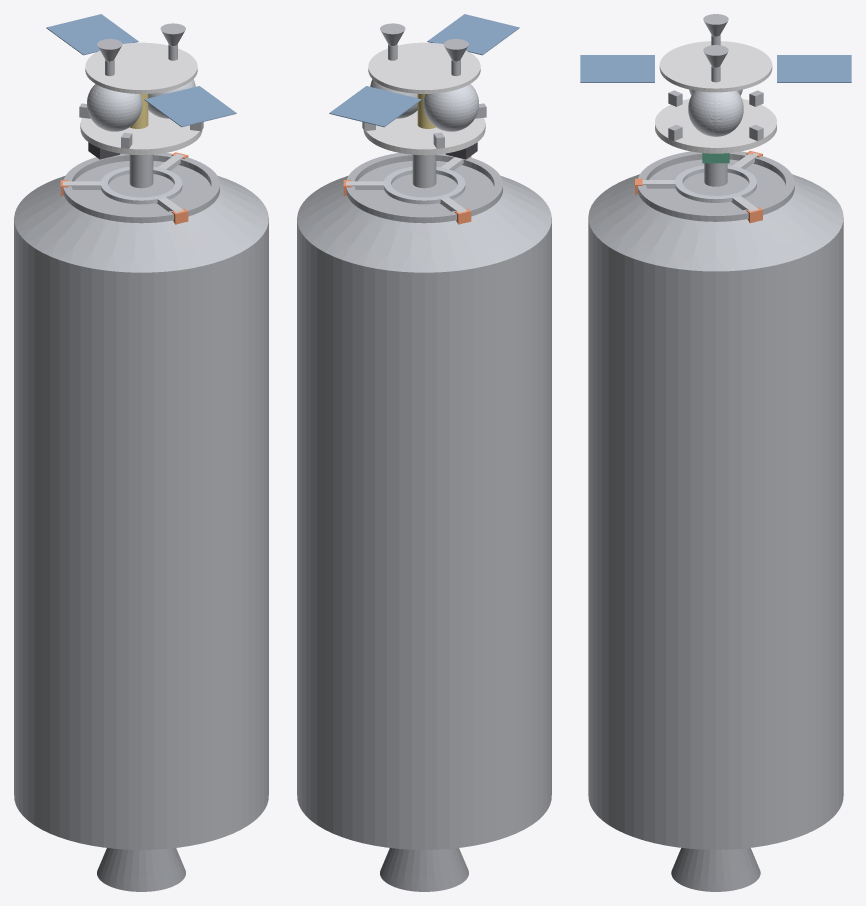
The model's file is v6_stage_sl8_kit.glb.
3 views of the same model, side by side, from view 1: azimuth 30°, elevation 25°; view 2: azimuth 150°, elevation 25°; view 3: azimuth 270°, elevation 25° (orthographic).
Parts seen in each view (by area): view 1: stage, adapter, top, nozzle, deck, panel_b, tank_1, panel_a, clamp_ring, boom, engine_0, engine_1; view 2: stage, adapter, top, nozzle, deck, panel_a, tank_1, panel_b, clamp_ring, boom, engine_0, engine_1; view 3: stage, adapter, top, deck, nozzle, tank_0, panel_a, panel_b, clamp_ring, engine_0, boom.
Part boxes in pixels (bbox=[...]): stage: bbox=[14, 218, 268, 849]; adapter: bbox=[14, 153, 268, 272]; top: bbox=[85, 42, 197, 93]; nozzle: bbox=[97, 848, 185, 891]; deck: bbox=[80, 110, 202, 155]; panel_b: bbox=[144, 86, 236, 127]; tank_1: bbox=[87, 84, 142, 131]; panel_a: bbox=[46, 14, 138, 55]; clamp_ring: bbox=[100, 166, 182, 204]; boom: bbox=[129, 154, 153, 188]; engine_0: bbox=[160, 23, 185, 60]; engine_1: bbox=[97, 39, 122, 76]; stage: bbox=[297, 218, 551, 849]; adapter: bbox=[297, 153, 551, 272]; top: bbox=[368, 42, 480, 93]; nozzle: bbox=[380, 848, 468, 891]; deck: bbox=[363, 110, 485, 155]; panel_a: bbox=[329, 86, 421, 127]; tank_1: bbox=[423, 84, 478, 131]; panel_b: bbox=[427, 14, 519, 55]; clamp_ring: bbox=[383, 166, 465, 204]; boom: bbox=[412, 154, 436, 188]; engine_0: bbox=[380, 23, 405, 60]; engine_1: bbox=[443, 39, 468, 76]; stage: bbox=[588, 218, 843, 849]; adapter: bbox=[588, 151, 843, 271]; top: bbox=[659, 41, 772, 92]; deck: bbox=[655, 98, 776, 153]; nozzle: bbox=[671, 848, 760, 891]; tank_0: bbox=[688, 90, 743, 136]; panel_a: bbox=[777, 55, 851, 82]; panel_b: bbox=[580, 55, 654, 82]; clamp_ring: bbox=[675, 165, 756, 202]; engine_0: bbox=[703, 45, 728, 82]; boom: bbox=[704, 163, 727, 186].
Size of the model in its own units: 2.4 by 8.69 by 2.55.
